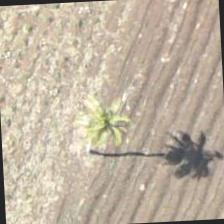Kelapa_Sawit: (46, 98, 141, 192)
